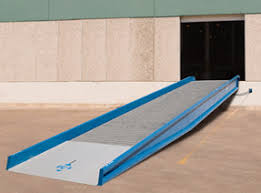Yard Ramp: (5, 75, 241, 185)
